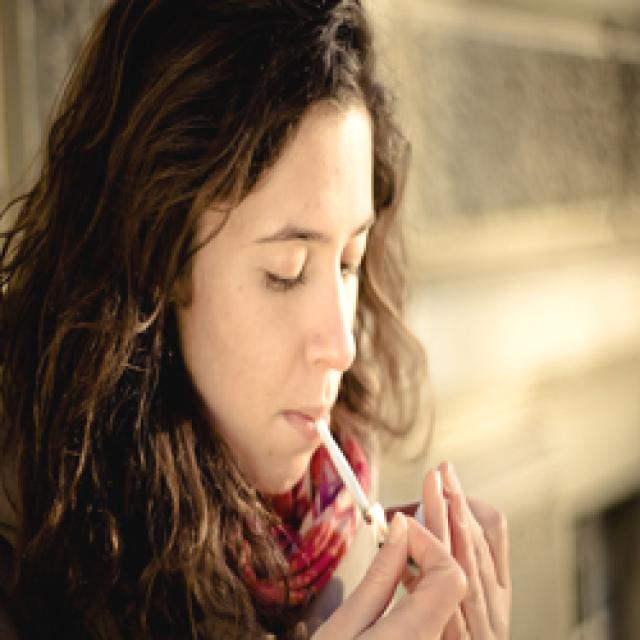Smooking: (318, 406, 382, 520)
